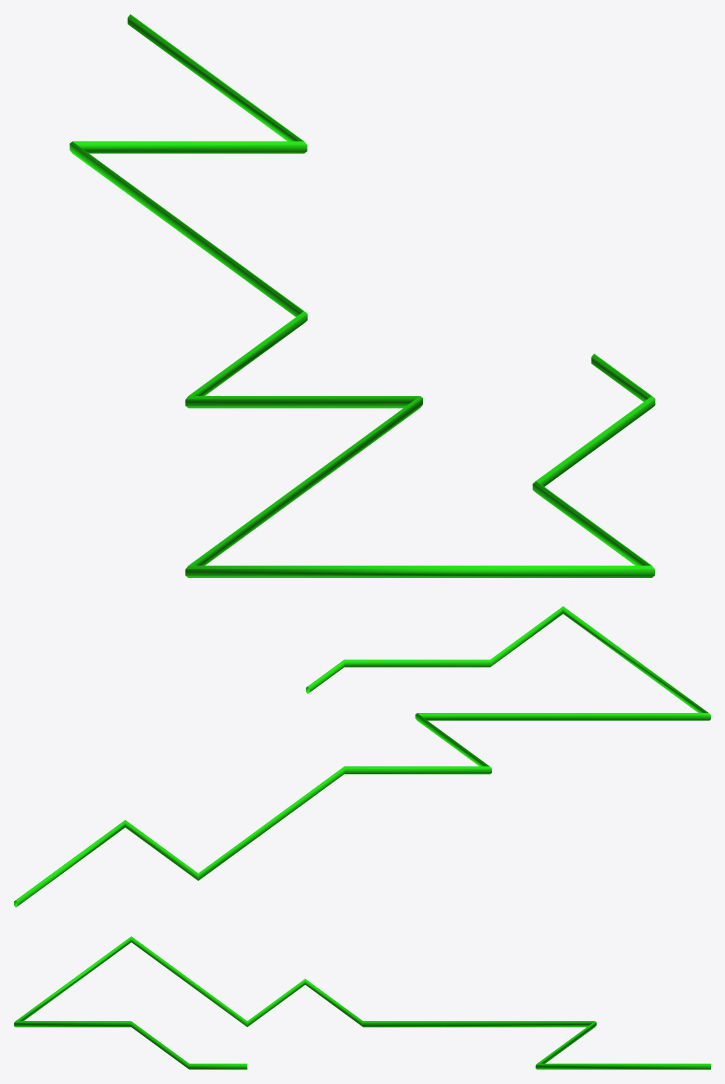
The model's file is lvl2_solution.fbx.
The picture shows the model from 3 angles, top to bottom: view 1: azimuth 30°, elevation 25°; view 2: azimuth 150°, elevation 25°; view 3: azimuth 270°, elevation 25°; orthographic projection. The views are drawn at different scales.
Visible parts, largest first — view 1: Curve.041; view 2: Curve.041; view 3: Curve.041.
Boxes of the visible parts, x1=… form: Curve.041: x1=69, y1=14, x2=655, y2=577; Curve.041: x1=14, y1=606, x2=710, y2=907; Curve.041: x1=14, y1=936, x2=710, y2=1069.
Size of the model in its own units: 450 by 10 by 1028.
